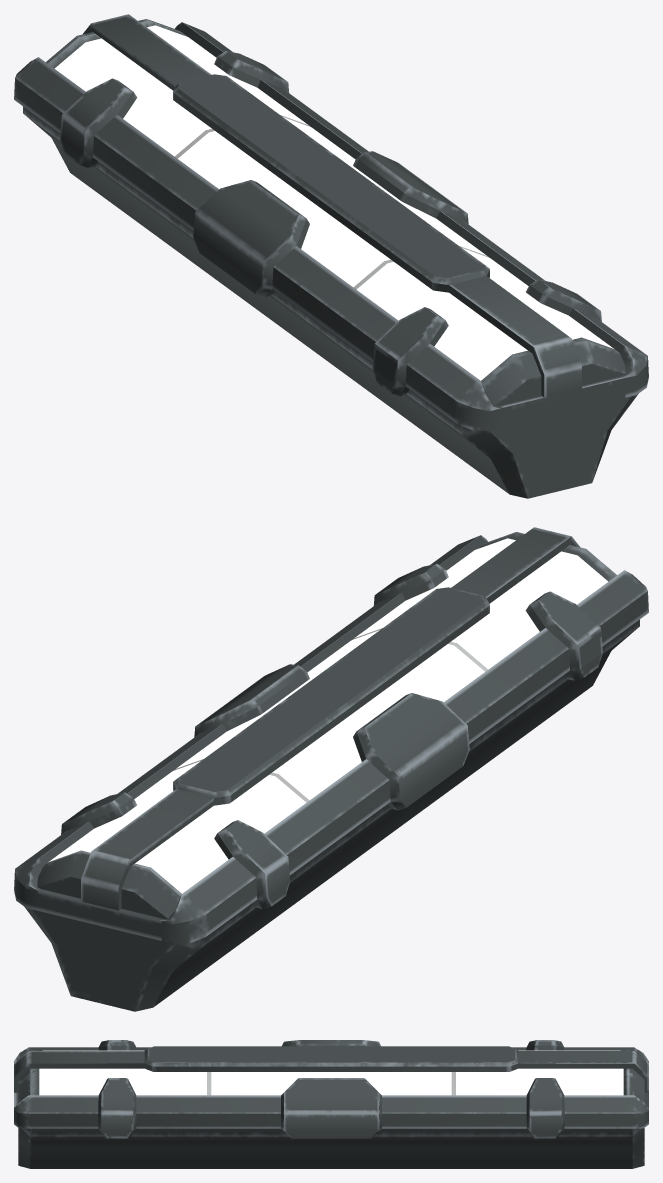
Rendered from try2.glb.
3 views of the same model, one above another, from view 1: azimuth 30°, elevation 25°; view 2: azimuth 150°, elevation 25°; view 3: azimuth 270°, elevation 25° (orthographic). The views are drawn at different scales.
Visible parts, largest first — view 1: Light_13_Material #39_0, Light_13_Material #38_0; view 2: Light_13_Material #39_0, Light_13_Material #38_0; view 3: Light_13_Material #39_0, Light_13_Material #38_0.
Boxes of the visible parts, <box> form: Light_13_Material #39_0: <box>14,14,648,498</box>; Light_13_Material #38_0: <box>54,25,613,380</box>; Light_13_Material #39_0: <box>14,527,648,1011</box>; Light_13_Material #38_0: <box>49,538,608,893</box>; Light_13_Material #39_0: <box>14,1040,648,1168</box>; Light_13_Material #38_0: <box>39,1050,623,1095</box>.
Size of the model in its own units: 27.18 by 18.43 by 105.
2 materials, 1 textured.
